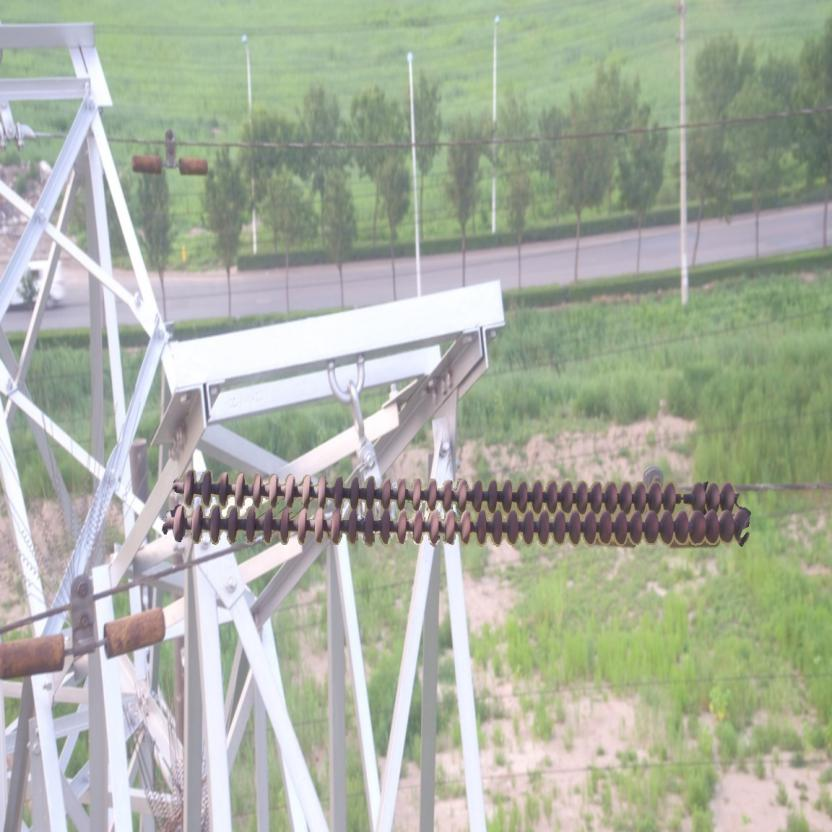defect: (660, 478, 704, 511)
